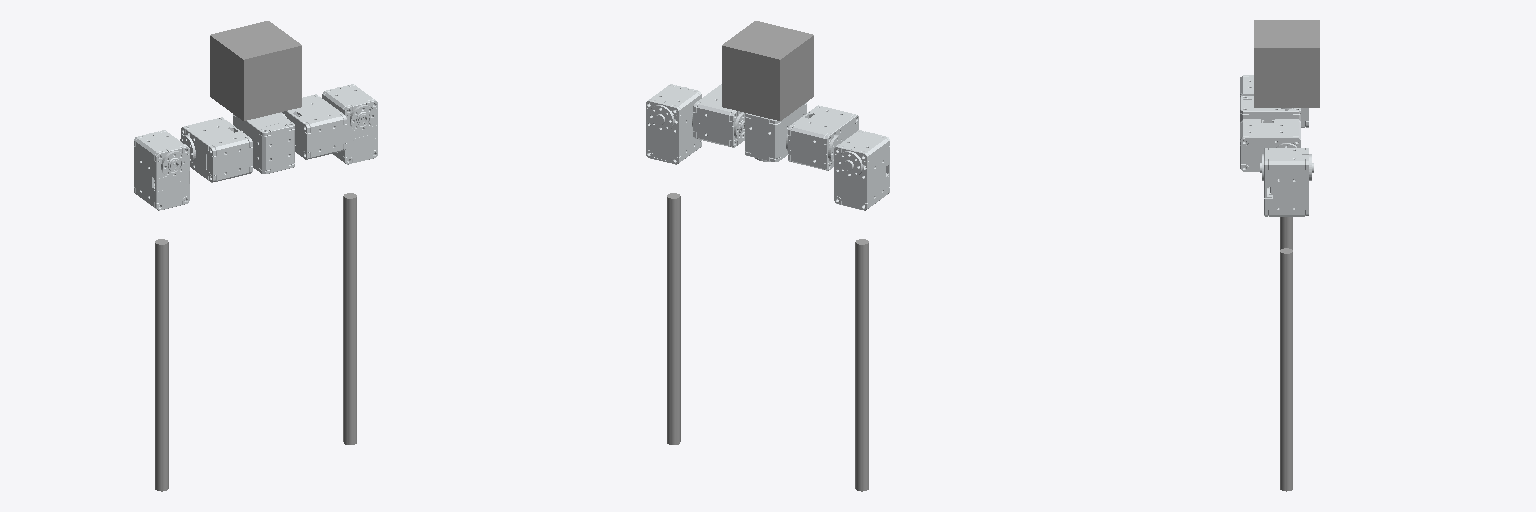
The robot description file, URDF, robot "chopstick_bot":
<?xml version='1.0' encoding='utf-8'?>
<robot name="chopstick_bot">
  <!-- Add a world link so the robot is placed above the floor in URDF-based tools. -->
  <link name="world" />
  <joint name="world_to_base" type="fixed">
    <origin xyz="0.000000 0.000000 0.300000" rpy="0.000000 0.000000 0.000000" />
    <parent link="world" />
    <child link="base_motor_link" />
  </joint>
  <link name="base_motor_link">
    <visual>
      <origin xyz="0.000000 0.000000 0.000000" rpy="0.000000 0.000000 0.000000" />
      <geometry>
        <mesh filename="meshes/XL-430_new_coordinate_on_axis.STL" scale="0.001000 0.001000 0.001000" />
        </geometry>
      <material name="motor_mat">
        <color rgba="0.89804 0.91765 0.92941 1.0" />
        </material>
      </visual>
    <collision>
      <origin xyz="0.000000 -0.012000 0.000000" rpy="0.000000 0.000000 0.000000" />
      <geometry>
        <box size="0.028500 0.046500 0.034000" />
        </geometry>
      </collision>
    <inertial>
      <origin xyz="0.000000 -0.012000 0.000000" rpy="0.000000 0.000000 0.000000" />
      <mass value="0.065000" />
      <inertia ixx="0.000017973854" ixy="0" ixz="0" iyy="0.000010661354" iyz="0" izz="0.000016111875" />
      </inertial>
    </link>
  <link name="l_hip_pitch">
    <visual>
      <origin xyz="0.000000 0.000000 0.000000" rpy="0.000000 0.000000 0.000000" />
      <geometry>
        <mesh filename="meshes/XL-430_new_coordinate_on_axis.STL" scale="0.001000 0.001000 0.001000" />
        </geometry>
      <material name="motor_mat">
        <color rgba="0.89804 0.91765 0.92941 1.0" />
        </material>
      </visual>
    <collision>
      <origin xyz="0.000000 -0.012000 0.000000" rpy="0.000000 0.000000 0.000000" />
      <geometry>
        <box size="0.028500 0.046500 0.034000" />
        </geometry>
      </collision>
    <inertial>
      <origin xyz="0.000000 -0.012000 0.000000" rpy="0.000000 0.000000 0.000000" />
      <mass value="0.065000" />
      <inertia ixx="0.000017973854" ixy="0" ixz="0" iyy="0.000010661354" iyz="0" izz="0.000016111875" />
      </inertial>
    </link>
  <link name="l_hip_pitch_out">
    <inertial>
      <origin xyz="0.000000 0.000000 0.000000" rpy="0.000000 0.000000 0.000000" />
      <mass value="0.001000" />
      <inertia ixx="0.000000016667" ixy="0" ixz="0" iyy="0.000000016667" iyz="0" izz="0.000000016667" />
      </inertial>
    </link>
  <joint name="l_hip_pitch_mount_fixed" type="fixed">
    <origin xyz="-0.040000 0.000000 0.000000" rpy="0.000000 -1.570796 0.000000" />
    <parent link="base_motor_link" />
    <child link="l_hip_pitch" />
    </joint>
  <joint name="l_hip_pitch_joint" type="revolute">
    <origin xyz="0.000000 0.000000 0.000000" rpy="0.000000 0.000000 0.000000" />
    <parent link="l_hip_pitch" />
    <child link="l_hip_pitch_out" />
    <axis xyz="0.000000 0.000000 1.000000" />
    <limit lower="-3.14159" upper="3.14159" effort="5.0" velocity="8.0" />
    </joint>
  <link name="l_hip_roll">
    <visual>
      <origin xyz="0.000000 0.000000 0.000000" rpy="0.000000 0.000000 0.000000" />
      <geometry>
        <mesh filename="meshes/XL-430_new_coordinate_on_axis.STL" scale="0.001000 0.001000 0.001000" />
        </geometry>
      <material name="motor_mat">
        <color rgba="0.89804 0.91765 0.92941 1.0" />
        </material>
      </visual>
    <collision>
      <origin xyz="0.000000 -0.012000 0.000000" rpy="0.000000 0.000000 0.000000" />
      <geometry>
        <box size="0.028500 0.046500 0.034000" />
        </geometry>
      </collision>
    <inertial>
      <origin xyz="0.000000 -0.012000 0.000000" rpy="0.000000 0.000000 0.000000" />
      <mass value="0.065000" />
      <inertia ixx="0.000017973854" ixy="0" ixz="0" iyy="0.000010661354" iyz="0" izz="0.000016111875" />
      </inertial>
    </link>
  <link name="l_hip_roll_out">
    <inertial>
      <origin xyz="0.000000 0.000000 0.000000" rpy="0.000000 0.000000 0.000000" />
      <mass value="0.001000" />
      <inertia ixx="0.000000016667" ixy="0" ixz="0" iyy="0.000000016667" iyz="0" izz="0.000000016667" />
      </inertial>
    </link>
  <joint name="l_hip_roll_mount_fixed" type="fixed">
    <origin xyz="0.000000 0.000000 0.040000" rpy="0.000000 -1.570796 -1.570796" />
    <parent link="l_hip_pitch_out" />
    <child link="l_hip_roll" />
    </joint>
  <joint name="l_hip_roll_joint" type="revolute">
    <origin xyz="0.000000 0.000000 0.000000" rpy="0.000000 0.000000 0.000000" />
    <parent link="l_hip_roll" />
    <child link="l_hip_roll_out" />
    <axis xyz="0.000000 0.000000 1.000000" />
    <limit lower="-3.14159" upper="3.14159" effort="5.0" velocity="8.0" />
    </joint>
  <link name="l_end_effector">
    <visual>
      <origin xyz="0.000000 0.000000 0.000000" rpy="1.570796 0.000000 0.000000" />
      <geometry>
        <cylinder radius="0.005000" length="0.200000" />
        </geometry>
      <material name="cylinder_mat">
        <color rgba="0.7 0.7 0.7 1.0" />
        </material>
      </visual>
    <collision>
      <origin xyz="0.000000 0.000000 0.000000" rpy="1.570796 0.000000 0.000000" />
      <geometry>
        <cylinder radius="0.005000" length="0.200000" />
        </geometry>
      </collision>
    <inertial>
      <origin xyz="0.000000 0.000000 0.000000" rpy="0.000000 0.000000 0.000000" />
      <mass value="0.030000" />
      <inertia ixx="0.000100187500" ixy="0" ixz="0" iyy="0.000100187500" iyz="0" izz="0.000000375000" />
      </inertial>
    </link>
  <joint name="l_end_effector_fixed" type="fixed">
    <origin xyz="0.000000 -0.170000 0.000000" rpy="0.000000 0.000000 0.000000" />
    <parent link="l_hip_roll_out" />
    <child link="l_end_effector" />
    </joint>
  <link name="r_hip_pitch">
    <visual>
      <origin xyz="0.000000 0.000000 0.000000" rpy="0.000000 0.000000 0.000000" />
      <geometry>
        <mesh filename="meshes/XL-430_new_coordinate_on_axis.STL" scale="0.001000 0.001000 0.001000" />
        </geometry>
      <material name="motor_mat">
        <color rgba="0.89804 0.91765 0.92941 1.0" />
        </material>
      </visual>
    <collision>
      <origin xyz="0.000000 -0.012000 0.000000" rpy="0.000000 0.000000 0.000000" />
      <geometry>
        <box size="0.028500 0.046500 0.034000" />
        </geometry>
      </collision>
    <inertial>
      <origin xyz="0.000000 -0.012000 0.000000" rpy="0.000000 0.000000 0.000000" />
      <mass value="0.065000" />
      <inertia ixx="0.000017973854" ixy="0" ixz="0" iyy="0.000010661354" iyz="0" izz="0.000016111875" />
      </inertial>
    </link>
  <link name="r_hip_pitch_out">
    <inertial>
      <origin xyz="0.000000 0.000000 0.000000" rpy="0.000000 0.000000 0.000000" />
      <mass value="0.001000" />
      <inertia ixx="0.000000016667" ixy="0" ixz="0" iyy="0.000000016667" iyz="0" izz="0.000000016667" />
      </inertial>
    </link>
  <joint name="r_hip_pitch_mount_fixed" type="fixed">
    <origin xyz="0.040000 0.000000 0.000000" rpy="0.000000 1.570796 -0.000000" />
    <parent link="base_motor_link" />
    <child link="r_hip_pitch" />
    </joint>
  <joint name="r_hip_pitch_joint" type="revolute">
    <origin xyz="0.000000 0.000000 0.000000" rpy="0.000000 0.000000 0.000000" />
    <parent link="r_hip_pitch" />
    <child link="r_hip_pitch_out" />
    <axis xyz="0.000000 0.000000 1.000000" />
    <limit lower="-3.14159" upper="3.14159" effort="5.0" velocity="8.0" />
    </joint>
  <link name="r_hip_roll">
    <visual>
      <origin xyz="0.000000 0.000000 0.000000" rpy="0.000000 0.000000 0.000000" />
      <geometry>
        <mesh filename="meshes/XL-430_new_coordinate_on_axis.STL" scale="0.001000 0.001000 0.001000" />
        </geometry>
      <material name="motor_mat">
        <color rgba="0.89804 0.91765 0.92941 1.0" />
        </material>
      </visual>
    <collision>
      <origin xyz="0.000000 -0.012000 0.000000" rpy="0.000000 0.000000 0.000000" />
      <geometry>
        <box size="0.028500 0.046500 0.034000" />
        </geometry>
      </collision>
    <inertial>
      <origin xyz="0.000000 -0.012000 0.000000" rpy="0.000000 0.000000 0.000000" />
      <mass value="0.065000" />
      <inertia ixx="0.000017973854" ixy="0" ixz="0" iyy="0.000010661354" iyz="0" izz="0.000016111875" />
      </inertial>
    </link>
  <link name="r_hip_roll_out">
    <inertial>
      <origin xyz="0.000000 0.000000 0.000000" rpy="0.000000 0.000000 0.000000" />
      <mass value="0.001000" />
      <inertia ixx="0.000000016667" ixy="0" ixz="0" iyy="0.000000016667" iyz="0" izz="0.000000016667" />
      </inertial>
    </link>
  <joint name="r_hip_roll_mount_fixed" type="fixed">
    <origin xyz="-0.000000 0.000000 0.040000" rpy="0.000000 1.570796 1.570796" />
    <parent link="r_hip_pitch_out" />
    <child link="r_hip_roll" />
    </joint>
  <joint name="r_hip_roll_joint" type="revolute">
    <origin xyz="0.000000 0.000000 0.000000" rpy="0.000000 0.000000 0.000000" />
    <parent link="r_hip_roll" />
    <child link="r_hip_roll_out" />
    <axis xyz="0.000000 0.000000 1.000000" />
    <limit lower="-3.14159" upper="3.14159" effort="5.0" velocity="8.0" />
    </joint>
  <link name="r_end_effector">
    <visual>
      <origin xyz="0.000000 0.000000 0.000000" rpy="1.570796 0.000000 0.000000" />
      <geometry>
        <cylinder radius="0.005000" length="0.200000" />
        </geometry>
      <material name="cylinder_mat">
        <color rgba="0.7 0.7 0.7 1.0" />
        </material>
      </visual>
    <collision>
      <origin xyz="0.000000 0.000000 0.000000" rpy="1.570796 0.000000 0.000000" />
      <geometry>
        <cylinder radius="0.005000" length="0.200000" />
        </geometry>
      </collision>
    <inertial>
      <origin xyz="0.000000 0.000000 0.000000" rpy="0.000000 0.000000 0.000000" />
      <mass value="0.030000" />
      <inertia ixx="0.000100187500" ixy="0" ixz="0" iyy="0.000100187500" iyz="0" izz="0.000000375000" />
      </inertial>
    </link>
  <joint name="r_end_effector_fixed" type="fixed">
    <origin xyz="-0.000000 -0.170000 0.000000" rpy="0.000000 -0.000000 0.000000" />
    <parent link="r_hip_roll_out" />
    <child link="r_end_effector" />
    </joint>
  <link name="trunk_link">
    <visual>
      <origin xyz="0.000000 0.000000 0.000000" rpy="0.000000 0.000000 0.000000" />
      <geometry>
        <box size="0.050000 0.050000 0.050000" />
        </geometry>
      <material name="box_mat">
        <color rgba="0.7 0.7 0.7 1.0" />
        </material>
      </visual>
    <collision>
      <origin xyz="0.000000 0.000000 0.000000" rpy="0.000000 0.000000 0.000000" />
      <geometry>
        <box size="0.050000 0.050000 0.050000" />
        </geometry>
      </collision>
    <inertial>
      <origin xyz="0.000000 0.000000 0.000000" rpy="0.000000 0.000000 0.000000" />
      <mass value="0.200000" />
      <inertia ixx="0.000083333333" ixy="0" ixz="0" iyy="0.000083333333" iyz="0" izz="0.000083333333" />
      </inertial>
    </link>
  <joint name="base_to_trunk" type="revolute">
    <origin xyz="0.000000 0.000000 0.050000" rpy="0.000000 0.000000 0.000000" />
    <parent link="base_motor_link" />
    <child link="trunk_link" />
    <axis xyz="0.000000 0.000000 1.000000" />
    <limit lower="-3.14159" upper="3.14159" effort="5.0" velocity="8.0" />
    </joint>
  </robot>

--- Facts derived from the render (not from the file) ---
3 views of the same robot in one strip: view 1: azimuth 30°, elevation 25°; view 2: azimuth 150°, elevation 25°; view 3: azimuth 270°, elevation 25° (orthographic).
Model chopstick_bot with 13 links and 12 joints (5 revolute, 7 fixed), rooted at world, posed all joints at 0.
Links seen in each view (by area): view 1: trunk_link, l_hip_roll, l_end_effector, r_end_effector, l_hip_pitch, r_hip_pitch, r_hip_roll, base_motor_link; view 2: trunk_link, l_hip_roll, l_end_effector, r_end_effector, r_hip_roll, l_hip_pitch, r_hip_pitch, base_motor_link; view 3: trunk_link, r_hip_roll, r_end_effector, r_hip_pitch, base_motor_link.
Link boxes in pixels (<box>): trunk_link: <box>210,21,301,120</box>; l_hip_roll: <box>134,130,189,210</box>; l_end_effector: <box>155,239,168,491</box>; r_end_effector: <box>343,193,356,444</box>; l_hip_pitch: <box>180,117,252,182</box>; r_hip_pitch: <box>280,94,346,159</box>; r_hip_roll: <box>322,84,377,164</box>; base_motor_link: <box>233,113,294,173</box>; trunk_link: <box>722,21,813,120</box>; l_hip_roll: <box>834,130,889,210</box>; l_end_effector: <box>855,239,868,491</box>; r_end_effector: <box>667,193,680,444</box>; r_hip_roll: <box>646,84,701,164</box>; l_hip_pitch: <box>786,105,858,170</box>; r_hip_pitch: <box>692,84,744,147</box>; base_motor_link: <box>745,102,806,161</box>; trunk_link: <box>1254,20,1319,107</box>; r_hip_roll: <box>1260,148,1313,216</box>; r_end_effector: <box>1280,248,1292,491</box>; r_hip_pitch: <box>1240,119,1300,171</box>; base_motor_link: <box>1240,96,1300,122</box>.
Bounding box of the posed robot: 0.1885 × 0.0602 × 0.345 m (x, y, z).
Meshes: 1 distinct files referenced, 5 mesh visuals loaded (1 binary STL).